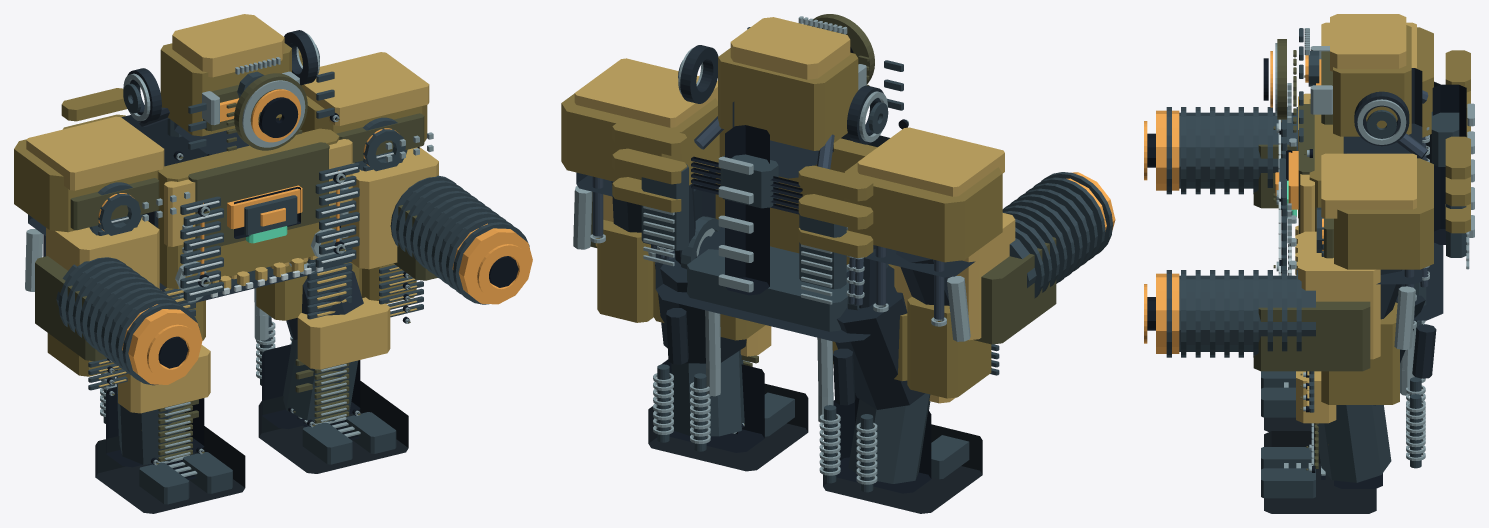
Rendered from enemy_gunner_4k.obj.
3 views of the same model, side by side, from view 1: azimuth 30°, elevation 25°; view 2: azimuth 150°, elevation 25°; view 3: azimuth 270°, elevation 25° (orthographic). The views are drawn at different scales.
Size of the model in its own units: 2.23 by 2.16 by 1.56.
